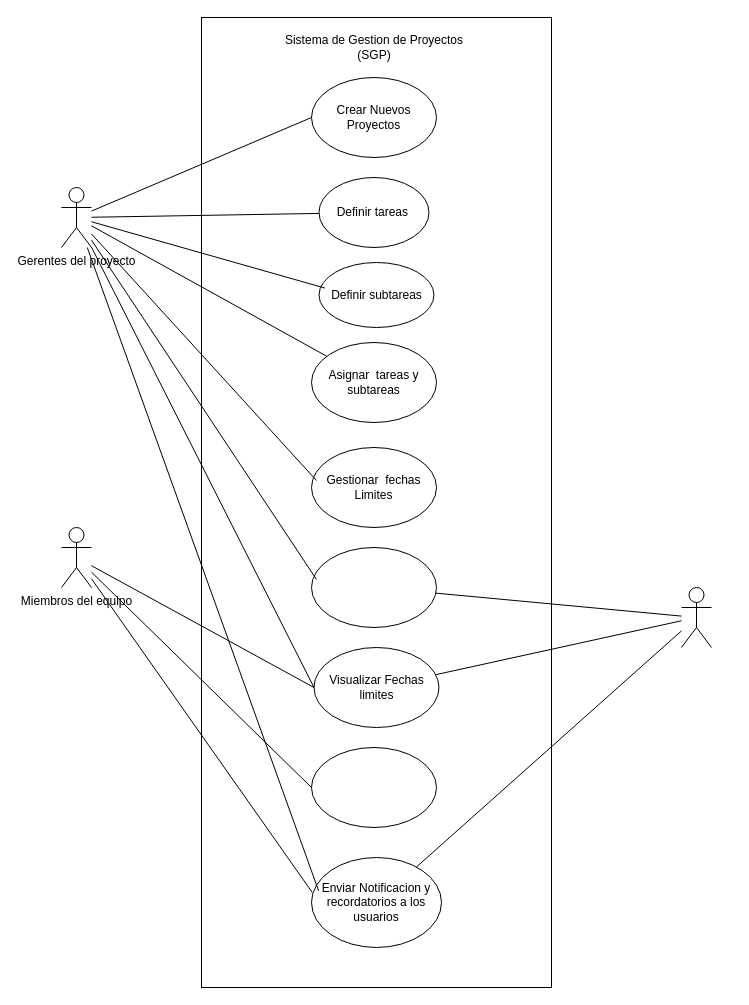
This 749x1005 diagram has some shape labels left out. The shapes that lost their labels are listed below. From the top down, each one's box as (x1, y1, x2, y2) in pixels, then its label:
(310, 546, 436, 628): Generar reportes del estado
(680, 586, 712, 648): StakeHolders
(310, 746, 436, 828): Gestionar avance de tareas
